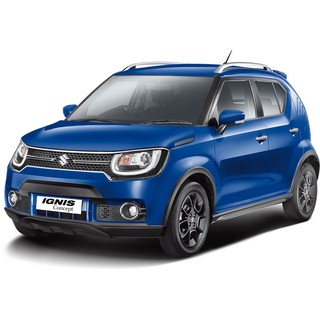car: (3, 62, 320, 261)
